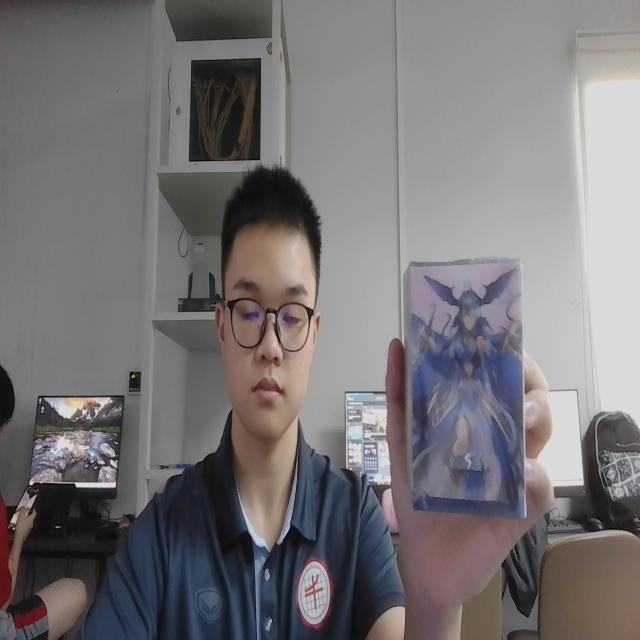box: (396, 247, 532, 531)
